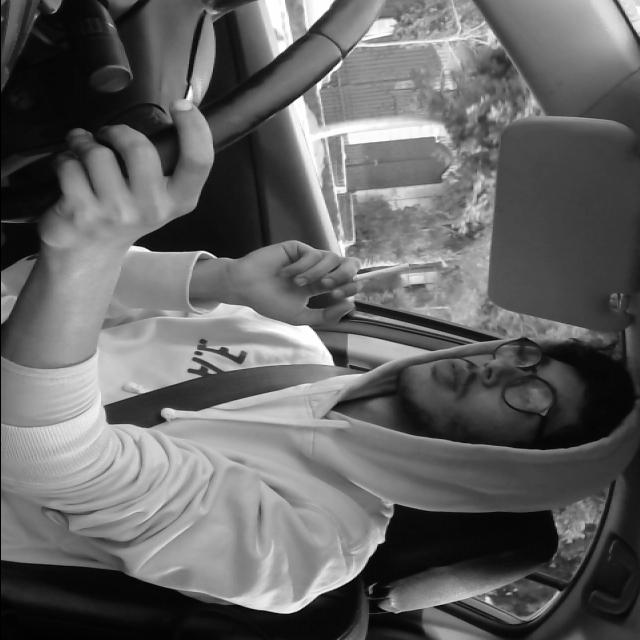smoking: (320, 256, 412, 288)
